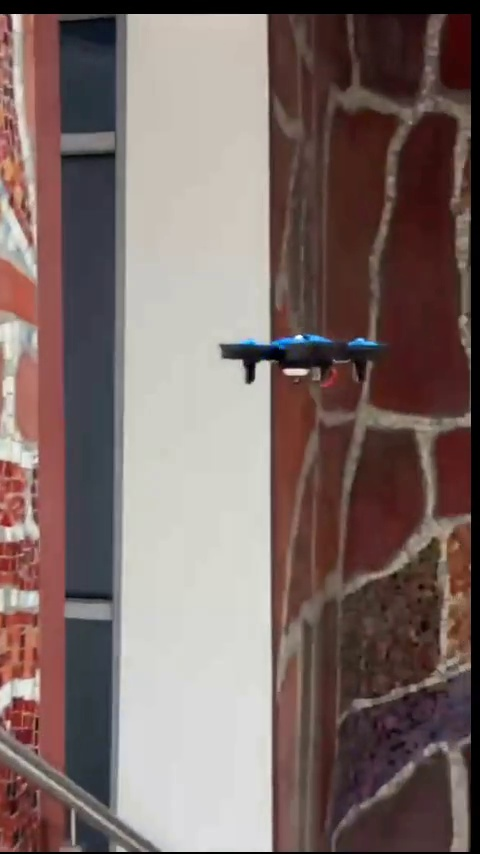drone: (224, 334, 388, 396)
